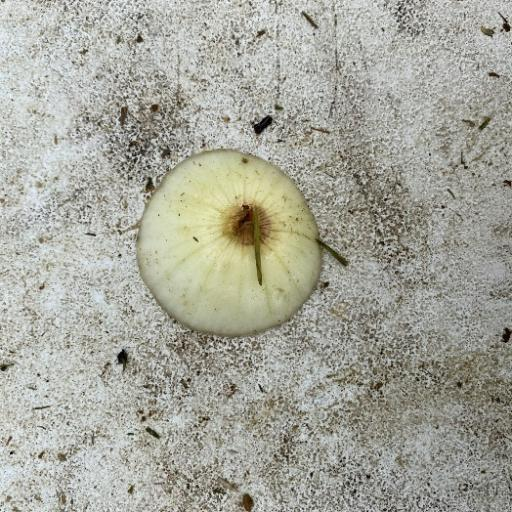Waste: (1, 1, 509, 510), (133, 147, 346, 338)
